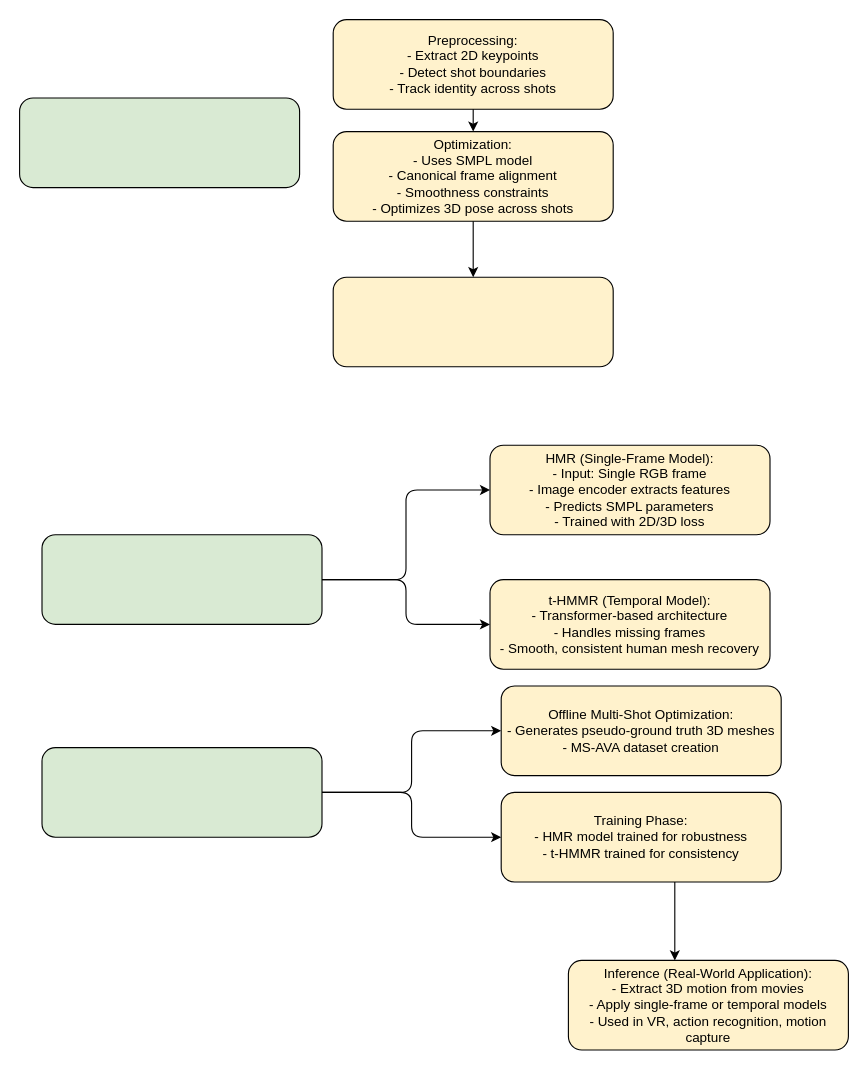
The diagram is 868 pixels wide and 1070 high, and some of its shapes have lost their labels. Each missing label, with the centre of its shape:
"Final Pipeline Workflow" goes at [181,791].
"Human Mesh Recovery Models" goes at [181,579].
"Multi-Shot Optimization (Offline Preprocessing)" goes at [159,142].
"Output: - Long, consistent 3D human mesh sequences - MS-AVA dataset generation" goes at [472,321].
